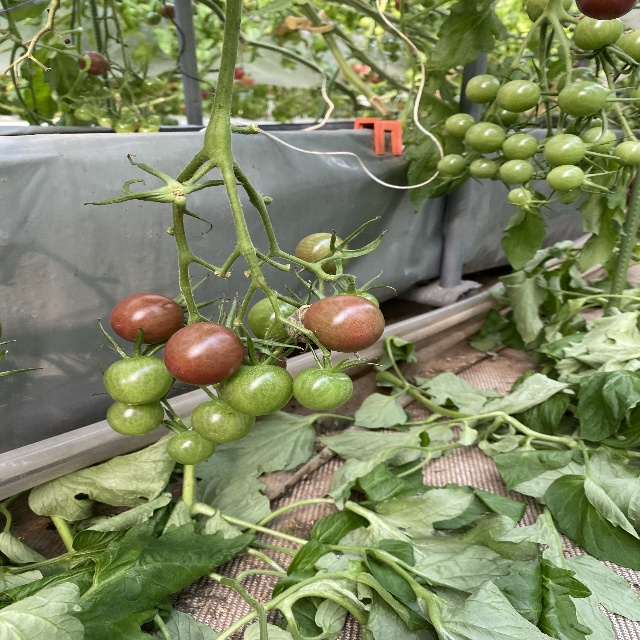l_fully_ripened: (110, 293, 184, 344), (575, 0, 620, 21)
l_green: (220, 363, 293, 416), (103, 355, 174, 405), (248, 295, 308, 346), (191, 399, 256, 443), (291, 367, 354, 411), (294, 232, 351, 276), (106, 400, 165, 437), (557, 80, 607, 118), (165, 430, 217, 465), (494, 79, 543, 113), (573, 16, 620, 51), (544, 133, 588, 167), (464, 121, 505, 154), (557, 67, 602, 96), (546, 164, 585, 191), (502, 132, 539, 160), (466, 75, 502, 103), (581, 127, 617, 154), (498, 159, 534, 184), (445, 114, 477, 137), (470, 157, 498, 178), (438, 155, 466, 176), (507, 188, 533, 203)
l_half_ripened: (161, 321, 245, 386), (303, 294, 386, 353)
